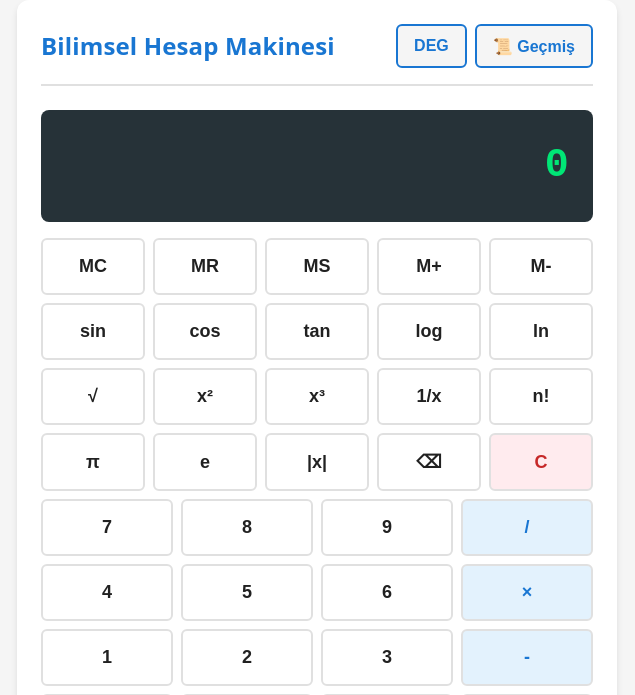
Test: ScientificCalculator › Scientific Functions › should calculate square
What coordinates should you click on to do the following:
click the button labelled "5"
I would click on:
 (247, 592)
Its box is [181,564,313,621].
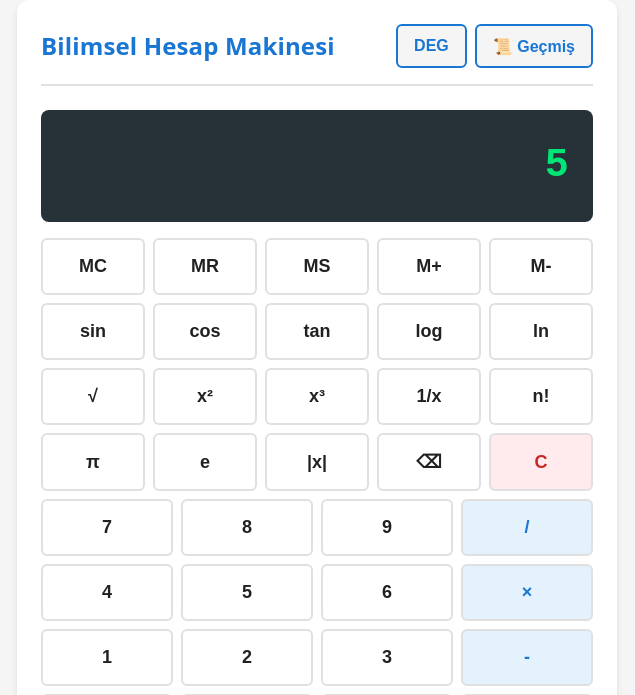
What coordinates should you click on to do the following:
click the button with aria-label "Kare"
I would click on:
 (205, 396)
Its box is [153,368,257,425].
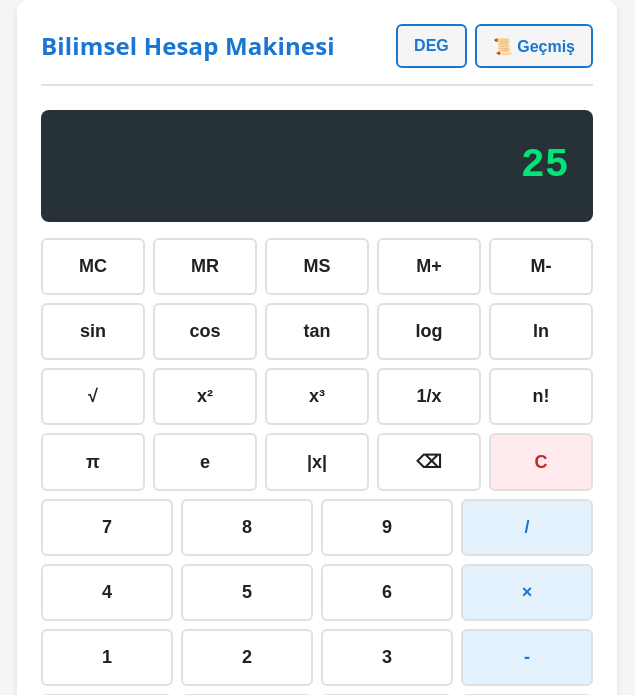
Expected: the text "25" is shown, [521,143,569,188]
